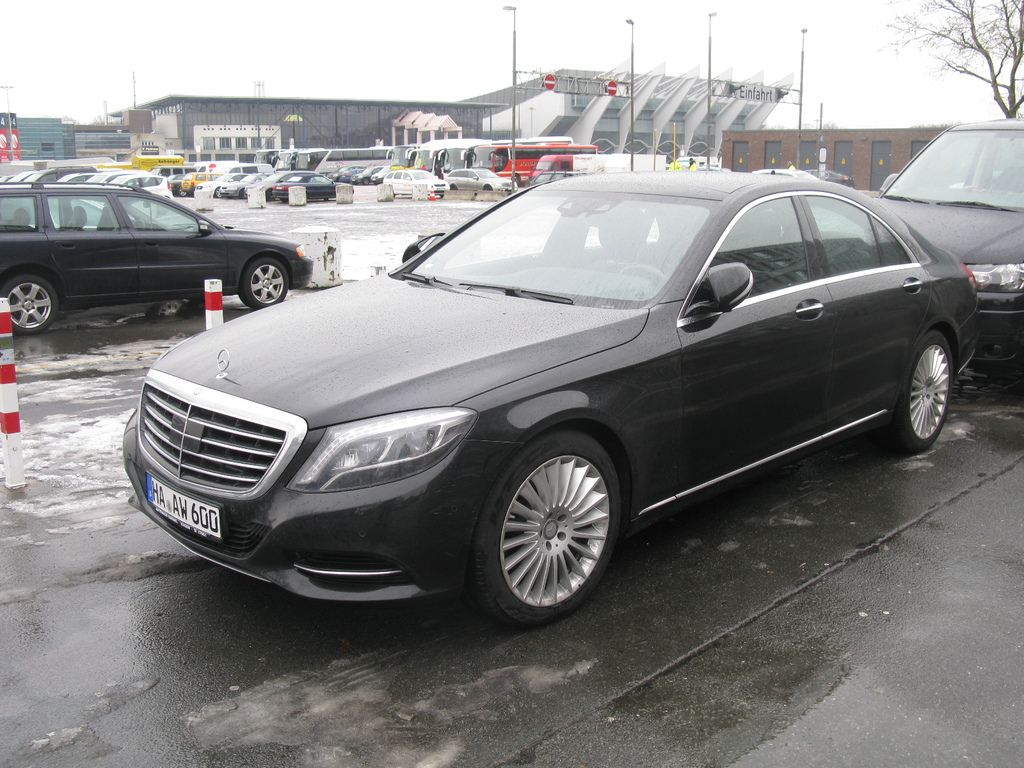Car: (116, 156, 989, 620), (0, 182, 317, 337), (869, 116, 1023, 357), (0, 159, 282, 217), (0, 180, 133, 228), (270, 174, 353, 202), (380, 167, 450, 199), (445, 165, 515, 192), (528, 170, 592, 191), (805, 165, 852, 188), (750, 167, 818, 181), (349, 163, 376, 186), (370, 166, 391, 183), (338, 167, 359, 183)
